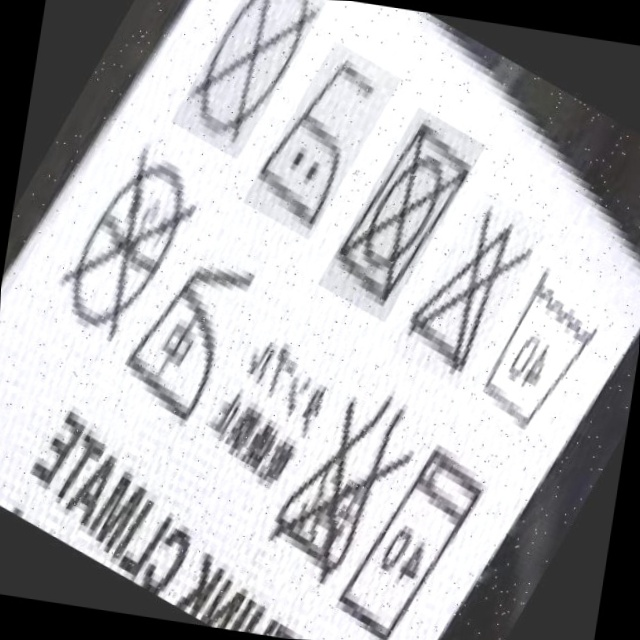40C: (332, 460, 495, 640), (481, 271, 593, 440)
DN_bleach: (402, 208, 516, 383)
DN_dry_clean: (64, 144, 190, 334), (164, 0, 314, 152)
DN_tumble_dry: (355, 117, 473, 290)
iron: (105, 254, 254, 409)
iron_medium: (252, 53, 384, 229)
